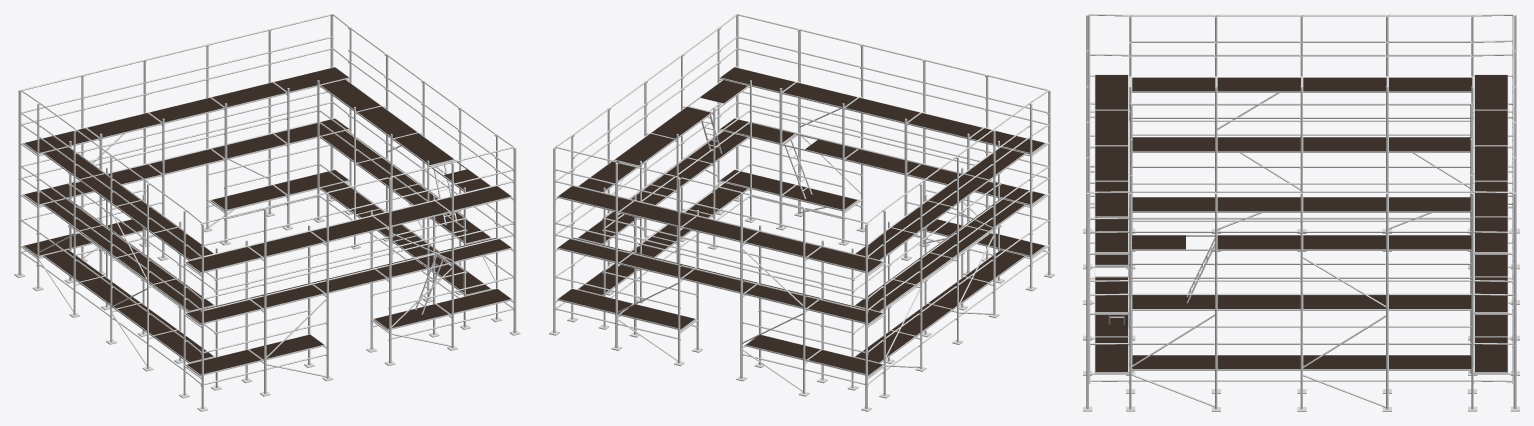
3 renders of one model, left to right at view 1: azimuth 30°, elevation 25°; view 2: azimuth 150°, elevation 25°; view 3: azimuth 270°, elevation 25°, orthographic. The views are drawn at different scales.
Parts seen in each view (by area): view 1: Geruest_groß.001; view 2: Geruest_groß.001; view 3: Geruest_groß.001.
Boxes of the visible parts, left/top/right/bottom form: Geruest_groß.001: left=14, top=14, right=520, bottom=411; Geruest_groß.001: left=549, top=14, right=1054, bottom=411; Geruest_groß.001: left=1083, top=14, right=1519, bottom=411.
Size of the model in its own units: 13.42 by 7.48 by 13.6.
